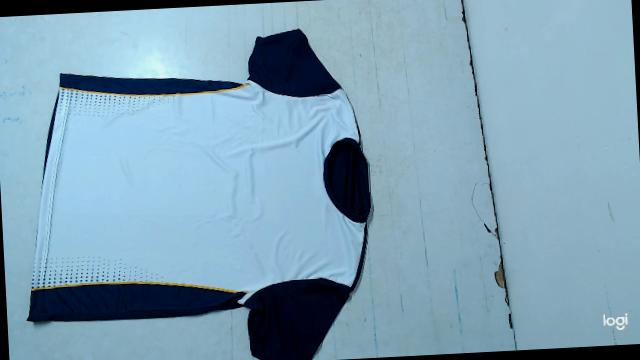new-garment: (27, 29, 370, 360)
